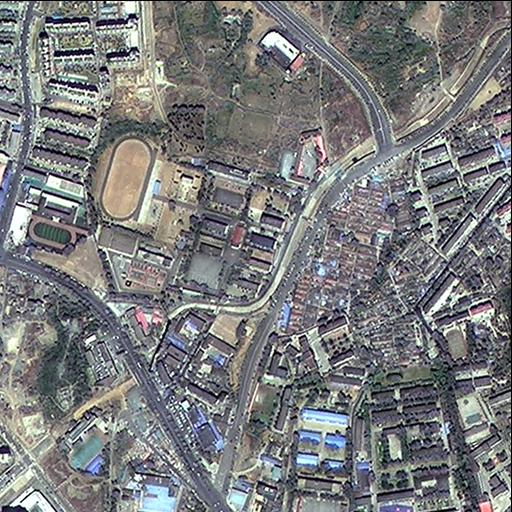school: (15, 167, 87, 253), (59, 404, 115, 480), (432, 308, 474, 364)
